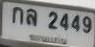letters: (12, 7, 23, 25), (26, 8, 37, 26), (48, 12, 58, 29), (59, 13, 69, 30), (71, 14, 80, 31), (83, 16, 92, 33)
province: (29, 35, 67, 45)
